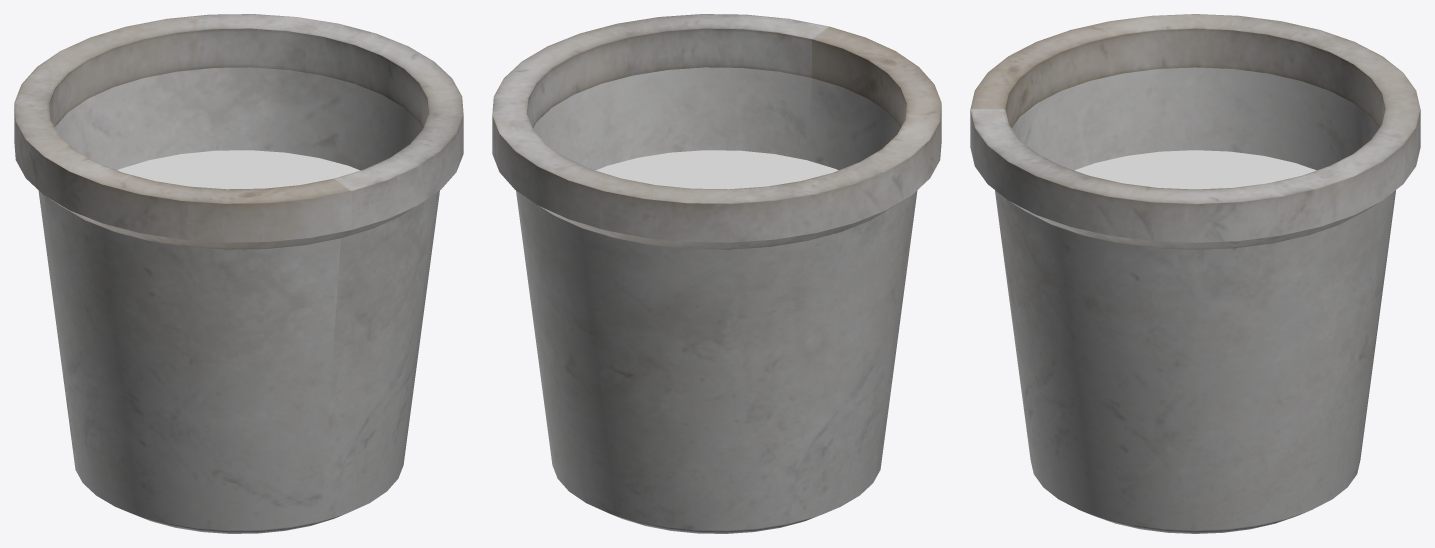
Rendered from Pot_B.fbx.
3 renders of one model, left to right at view 1: azimuth 30°, elevation 25°; view 2: azimuth 150°, elevation 25°; view 3: azimuth 270°, elevation 25°, orthographic.
Parts seen in each view (by area): view 1: Pot_B; view 2: Pot_B; view 3: Pot_B.
Boxes of the visible parts, box(x1,y1,x2,y2) form: Pot_B: box(14, 14, 463, 533); Pot_B: box(492, 14, 941, 533); Pot_B: box(970, 14, 1420, 533).
Size of the model in its own units: 33.59 by 30.01 by 33.59.
